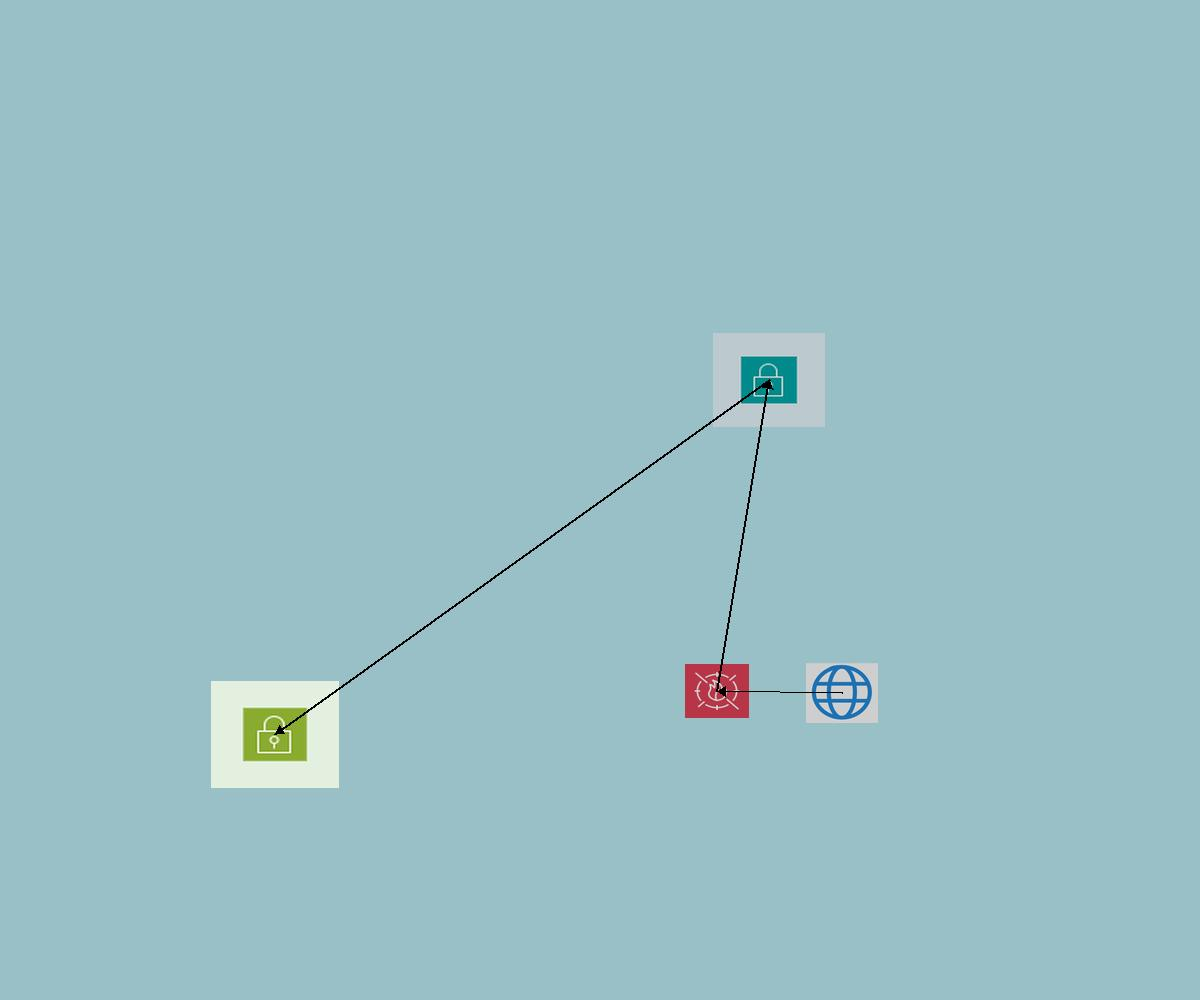AWS-Private-subnet: (713, 333, 825, 427)
AWS-Public-subnet: (211, 681, 339, 788)
AWS-WAF: (685, 664, 749, 718)
Azure_http: (806, 663, 878, 723)
